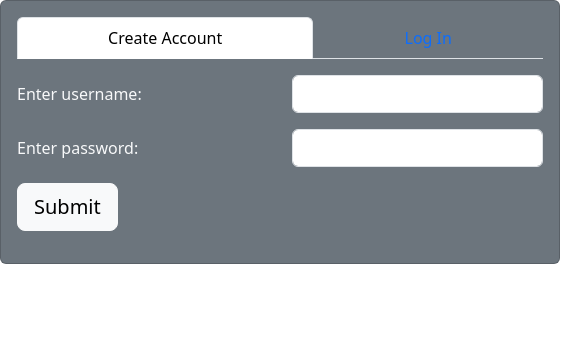
Scenario: AccountBox › clears an existing error when switching tabs
Click the button "Submit" at (67, 207), box [17, 183, 118, 231]
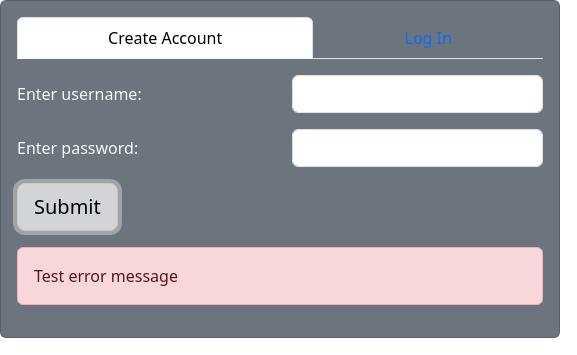
Click the tab "Log In" at (428, 38), box [313, 17, 543, 59]
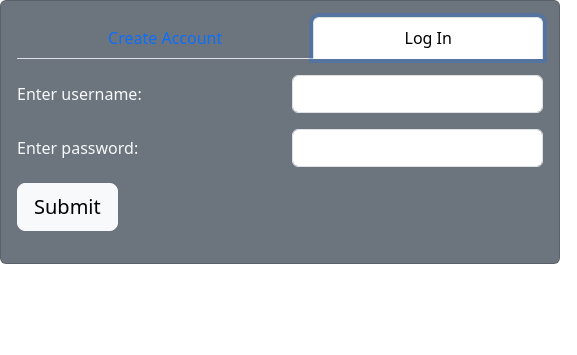
Check: the message "Test error message" is gone
